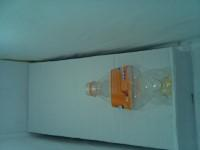bottle: (85, 68, 175, 110)
